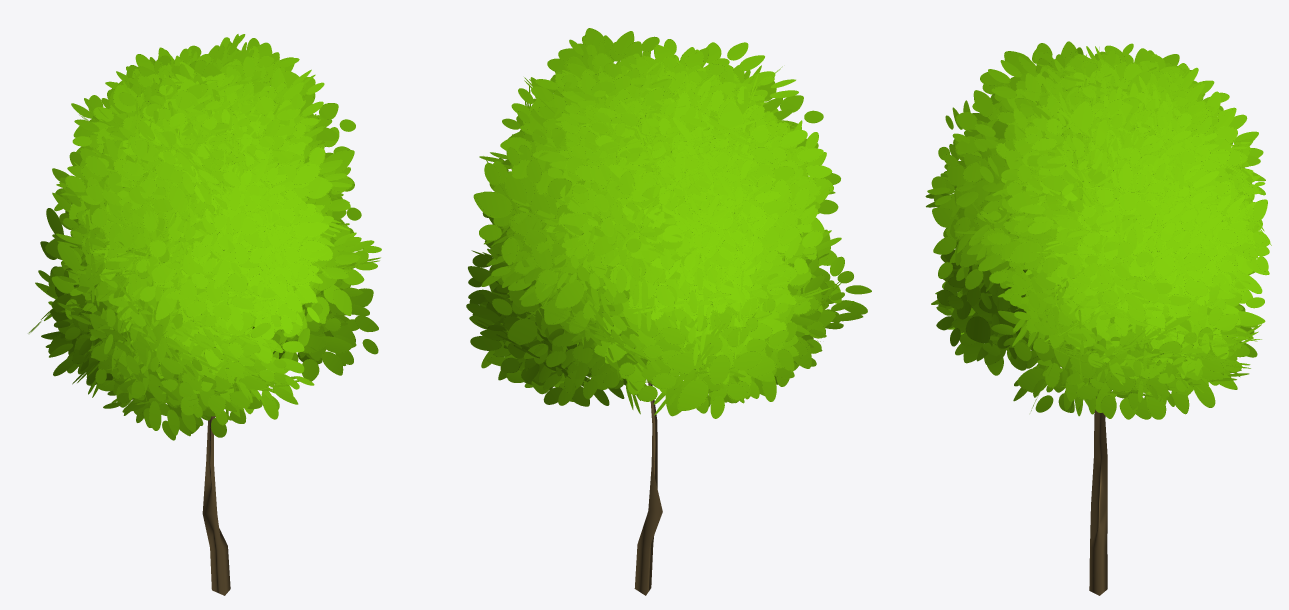
The model's file is approved-tree-7-lod.obj.
3 renders of one model, left to right at view 1: azimuth 30°, elevation 25°; view 2: azimuth 150°, elevation 25°; view 3: azimuth 270°, elevation 25°, orthographic. The views are drawn at different scales.
Visible parts, largest first — view 1: approved-tree-7-lod; view 2: approved-tree-7-lod; view 3: approved-tree-7-lod.
Part boxes in pixels (x1,y1,x2,y2): approved-tree-7-lod: [28, 34, 381, 595]; approved-tree-7-lod: [466, 28, 871, 595]; approved-tree-7-lod: [925, 41, 1271, 595].
Bounding box in the file's own units: 1.14 × 1.91 × 1.17.
2 materials, 2 textured.
